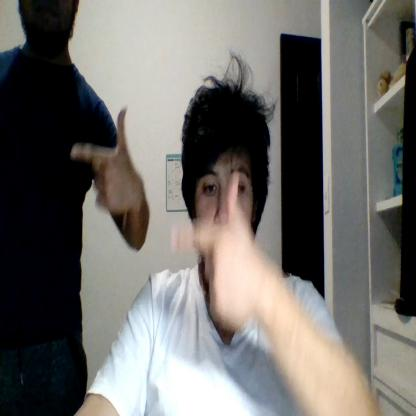G: (71, 107, 134, 211)
